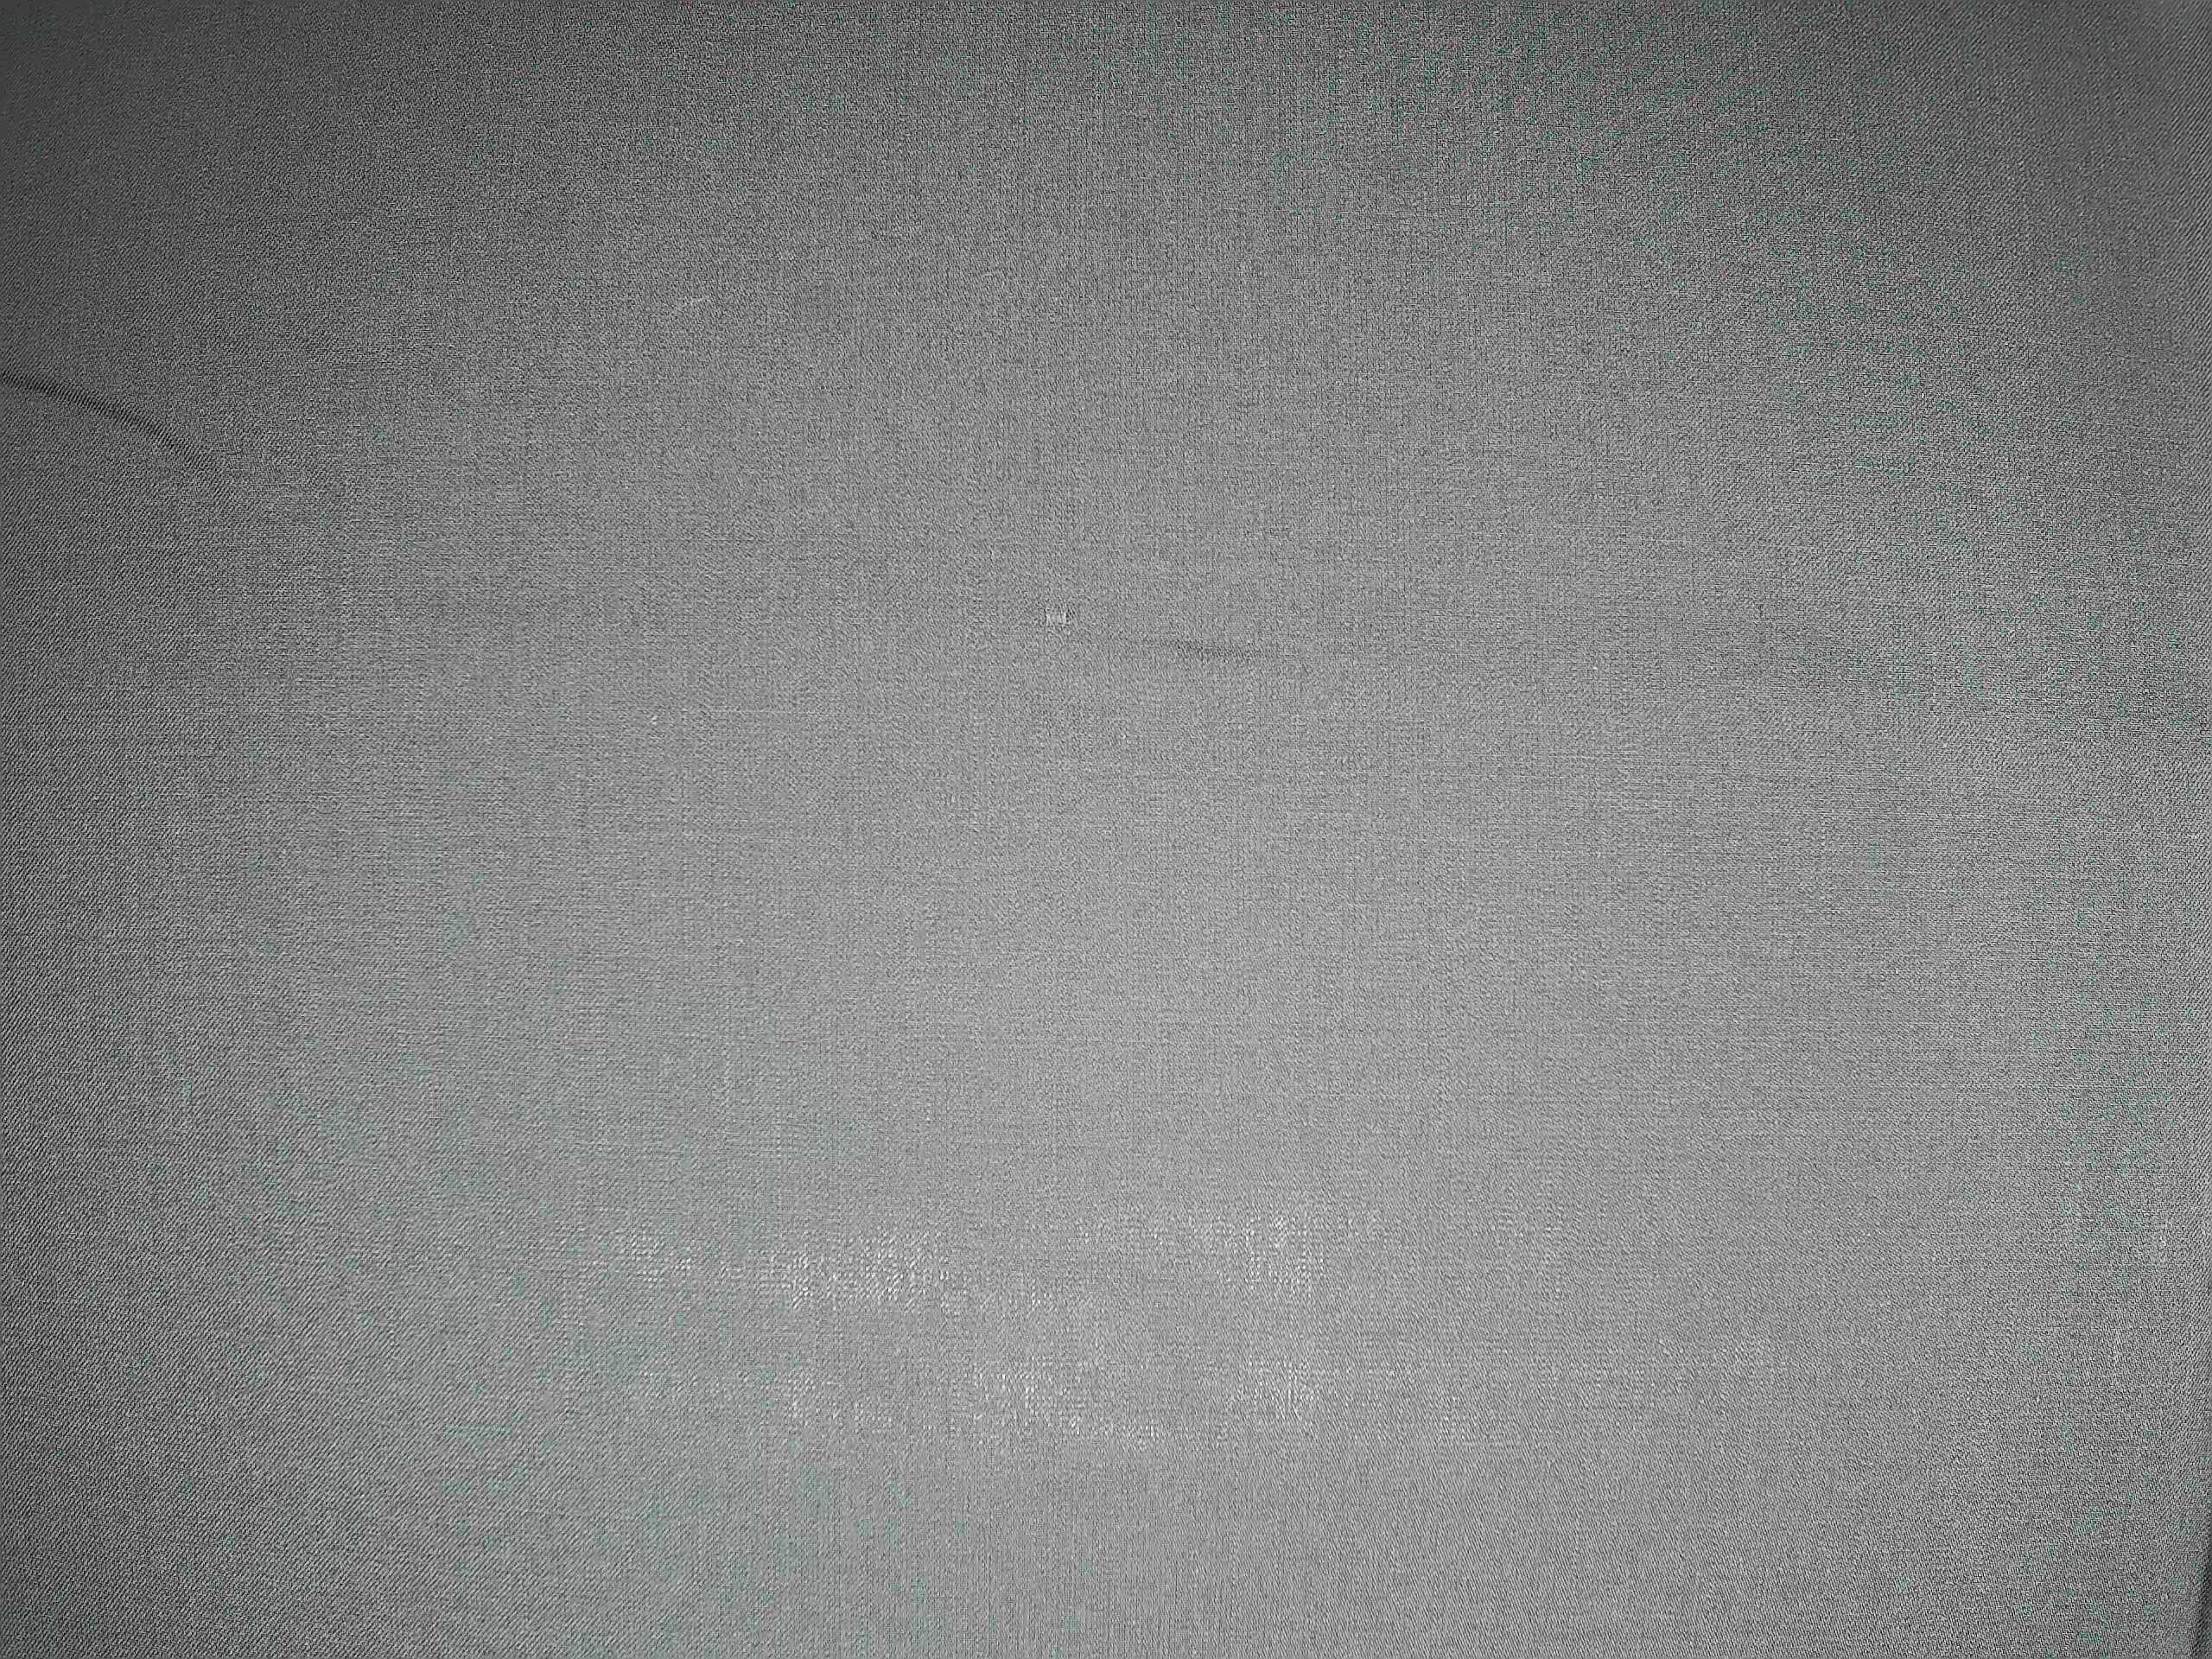jumps: (1024, 589, 1092, 647)
